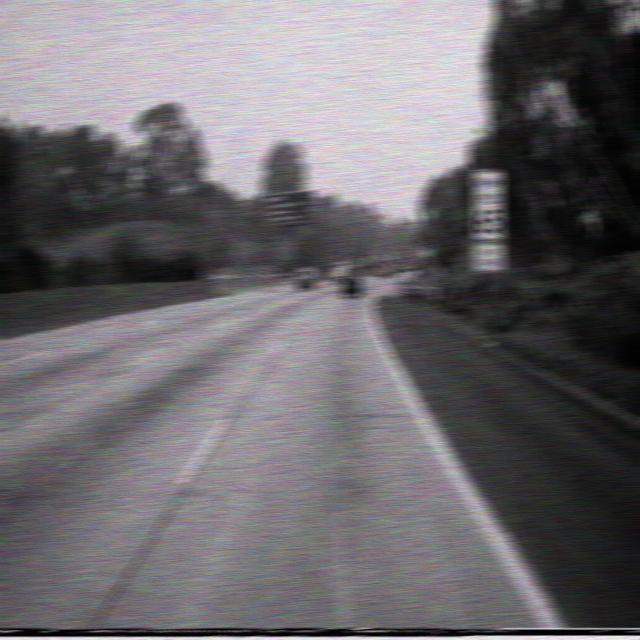speedLimit65: (471, 168, 505, 242)
